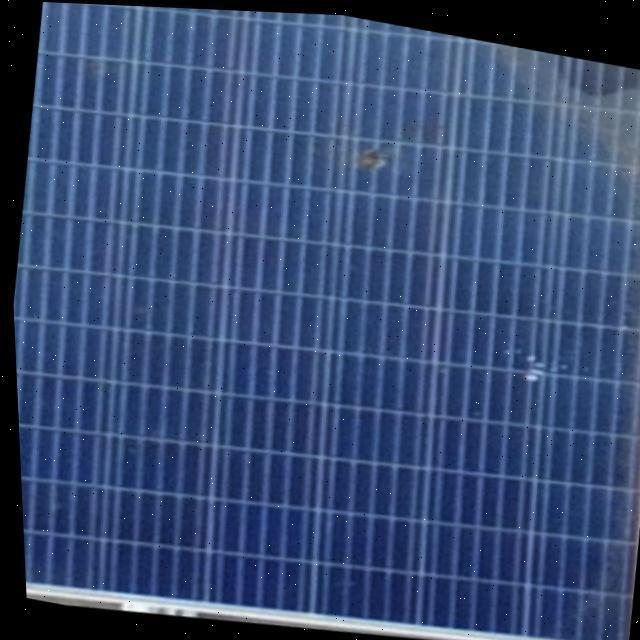Surface Contaminant: (455, 32, 640, 640)
